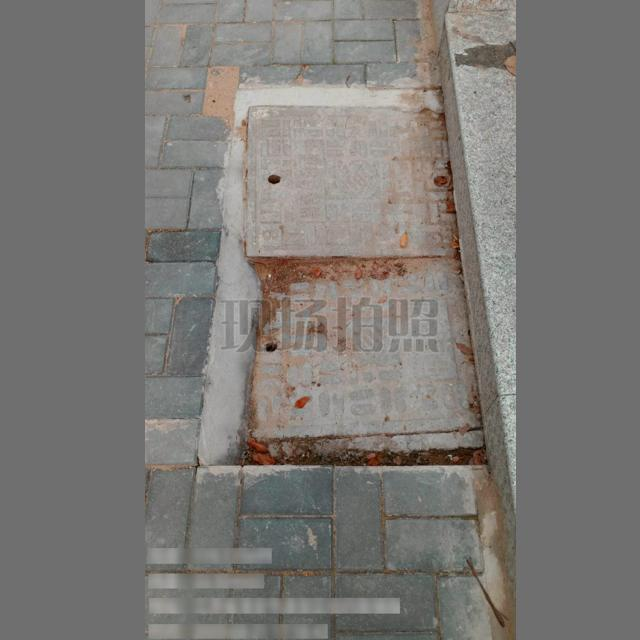uncovered: (225, 87, 487, 470)
